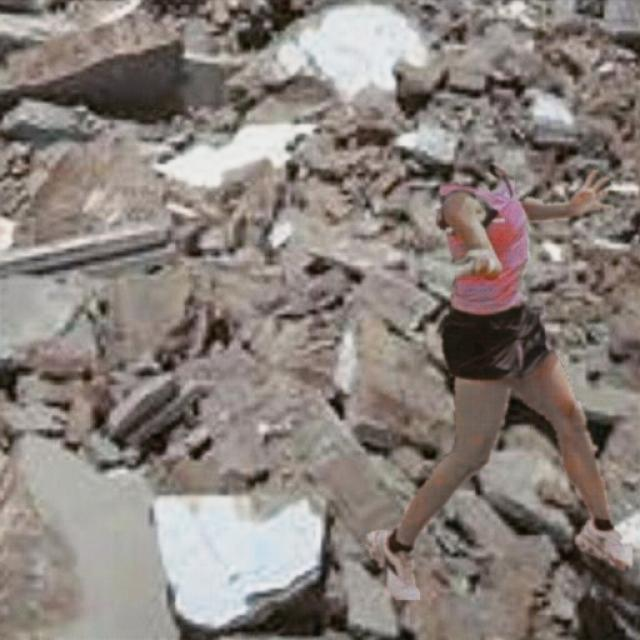Person in Rubble: (368, 162, 632, 598)
